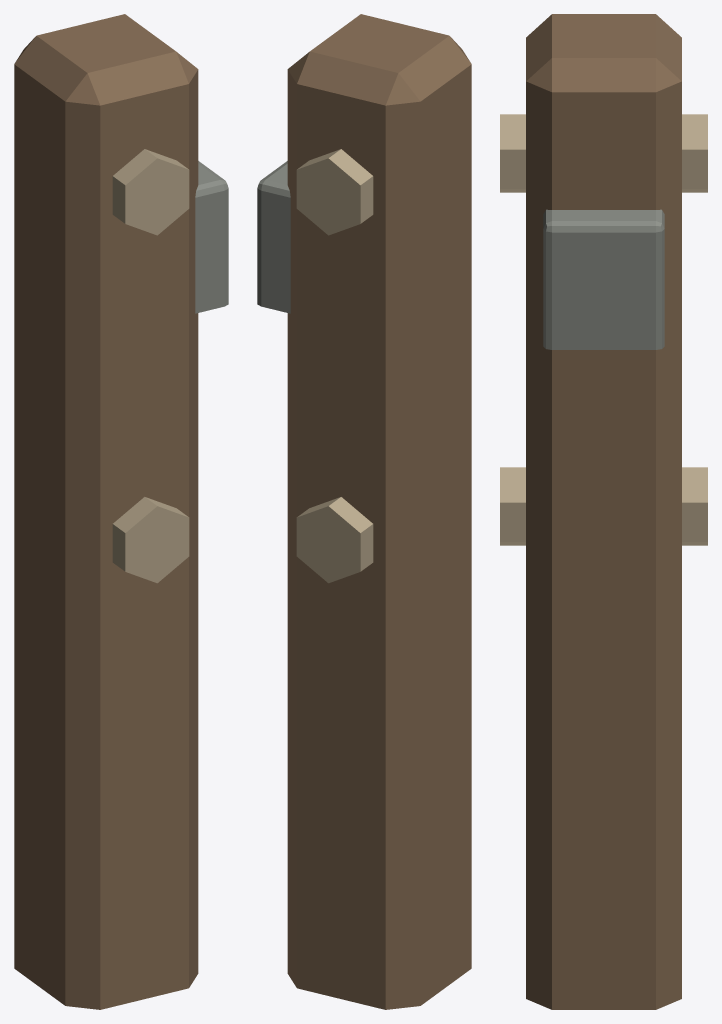
File: rn2-floresta-post.glb
3 renders of one model, left to right at view 1: azimuth 30°, elevation 25°; view 2: azimuth 150°, elevation 25°; view 3: azimuth 270°, elevation 25°, orthographic.
Parts seen in each view (by area): view 1: rn2_floresta_post_body; view 2: rn2_floresta_post_body; view 3: rn2_floresta_post_body.
Boxes of the visible parts, x1=… form: rn2_floresta_post_body: x1=14, y1=14, x2=228, y2=1009; rn2_floresta_post_body: x1=257, y1=14, x2=471, y2=1009; rn2_floresta_post_body: x1=500, y1=14, x2=707, y2=1009.
Bounding box in the file's own units: 0.22 × 1.2 × 0.24.
